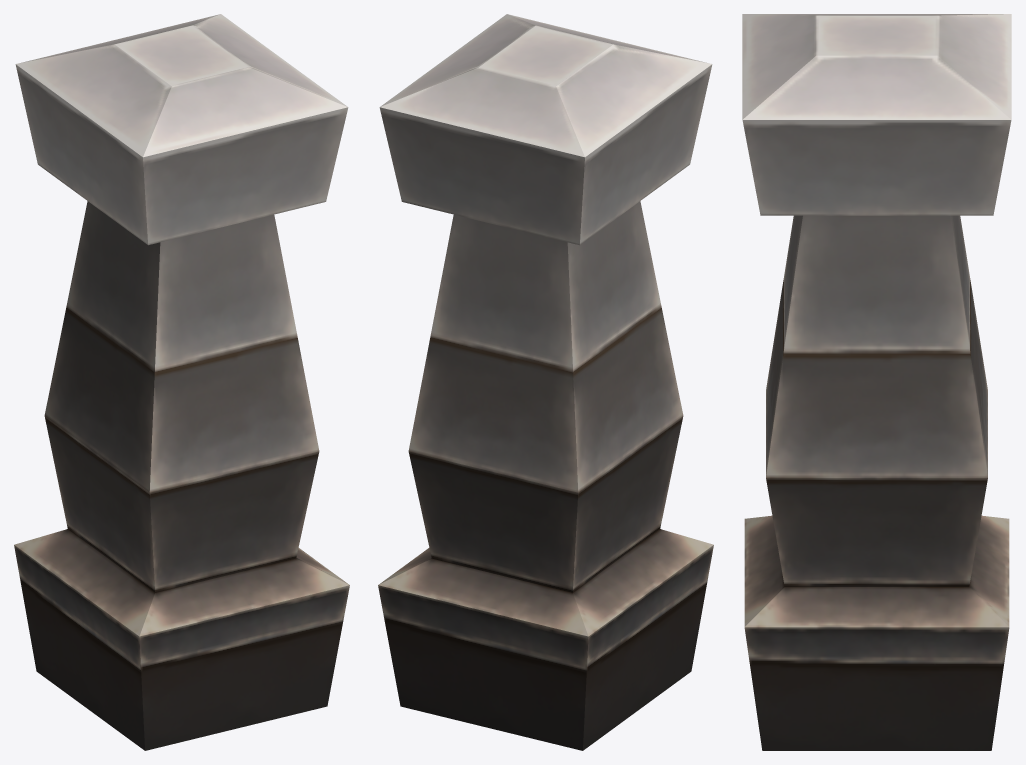
File: Dwarf_Village_Props_14.FBX
The picture shows the model from 3 angles, left to right: view 1: azimuth 30°, elevation 25°; view 2: azimuth 150°, elevation 25°; view 3: azimuth 270°, elevation 25°; orthographic projection. The views are drawn at different scales.
Parts seen in each view (by area): view 1: Dwarf_Village_Props_14; view 2: Dwarf_Village_Props_14; view 3: Dwarf_Village_Props_14.
Part boxes in pixels (<box>): Dwarf_Village_Props_14: <box>14,14,349,750</box>; Dwarf_Village_Props_14: <box>378,14,713,750</box>; Dwarf_Village_Props_14: <box>742,14,1011,750</box>.
Size of the model in its own units: 118 by 339 by 123.
